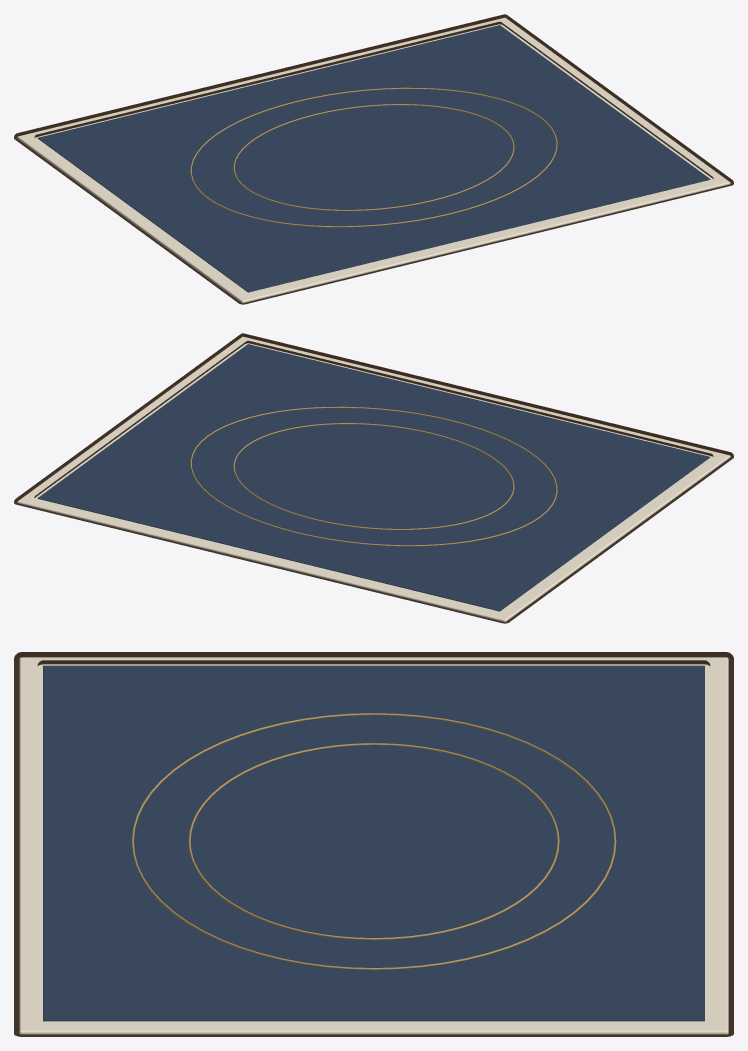
File: observatory-rug.glb
3 renders of one model, top to bottom at view 1: azimuth 30°, elevation 25°; view 2: azimuth 150°, elevation 25°; view 3: azimuth 270°, elevation 25°, orthographic. The views are drawn at different scales.
Parts seen in each view (by area): view 1: botanic-rug.005, botanic-rug-outline.005, Observatory curve.001, Observatory curve; view 2: botanic-rug.005, botanic-rug-outline.005, Observatory curve.001, Observatory curve; view 3: botanic-rug.005, botanic-rug-outline.005, Observatory curve.001, Observatory curve.
Boxes of the visible parts, bbox=[...] form: botanic-rug.005: bbox=[17, 17, 730, 303]; botanic-rug-outline.005: bbox=[14, 14, 733, 304]; Observatory curve.001: bbox=[190, 87, 557, 227]; Observatory curve: bbox=[233, 104, 514, 211]; botanic-rug.005: bbox=[17, 336, 730, 622]; botanic-rug-outline.005: bbox=[14, 333, 733, 623]; Observatory curve.001: bbox=[190, 406, 557, 546]; Observatory curve: bbox=[233, 423, 514, 530]; botanic-rug.005: bbox=[19, 657, 728, 1034]; botanic-rug-outline.005: bbox=[14, 652, 733, 1036]; Observatory curve.001: bbox=[131, 713, 616, 970]; Observatory curve: bbox=[188, 743, 559, 940].
Size of the model in its own units: 3.04 by 0.0389 by 2.44.
